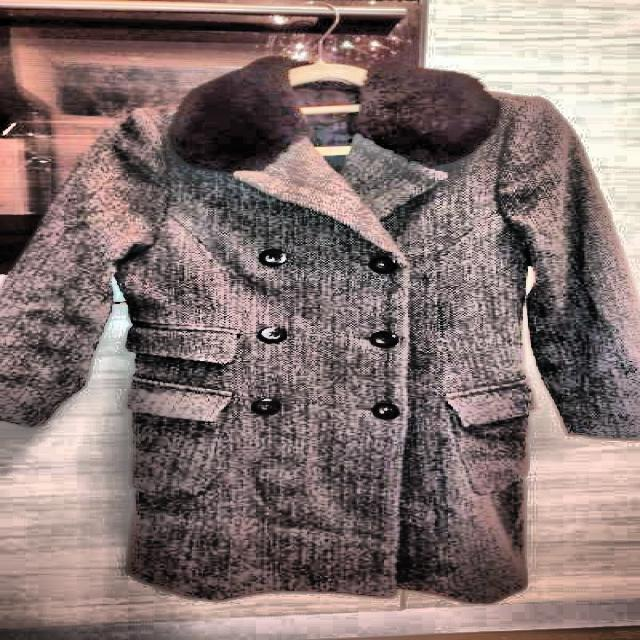clothes: (0, 51, 640, 605)
